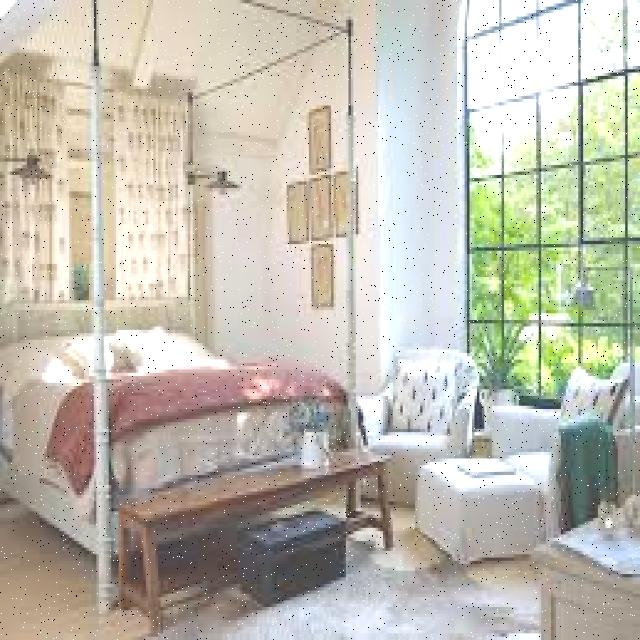bed: (0, 313, 356, 464)
